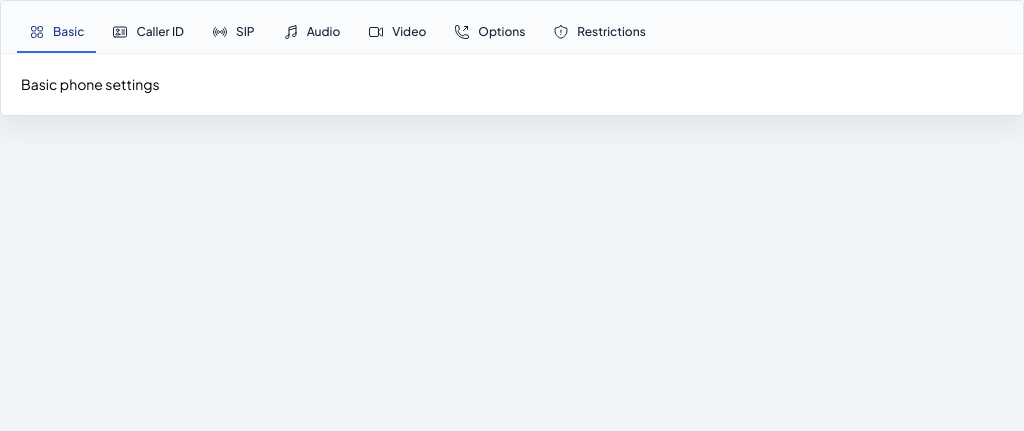
Scenario: DeviceAdvancedSettings › shows the audited T.38 and completed-elsewhere controls for sip_device
Click the tab "Options": (490,33) x1=442 y1=13 x2=537 y2=53
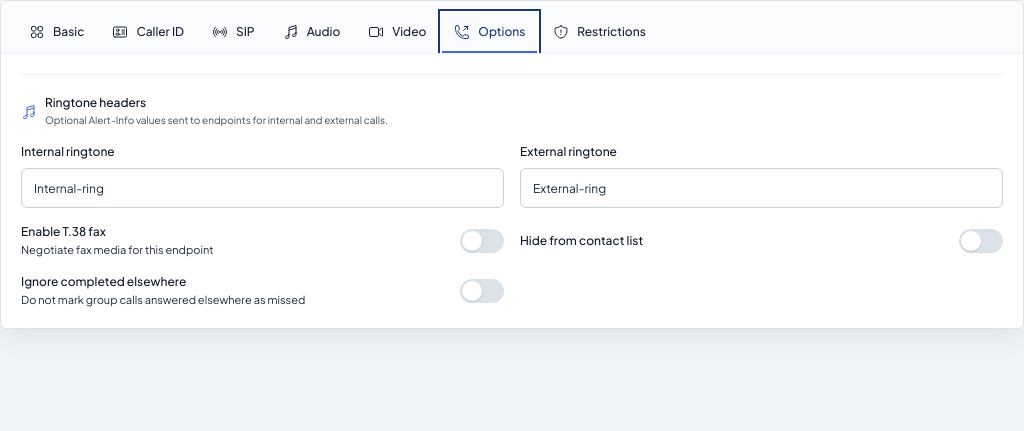
Click the tab "SIP": (233,33) x1=200 y1=13 x2=267 y2=53
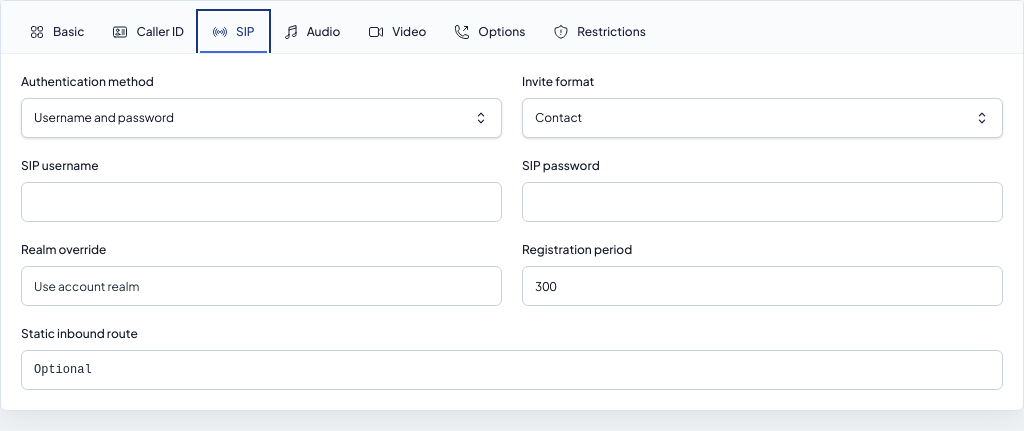
expect the text "Ignore completed elsewhere" is gone: met
